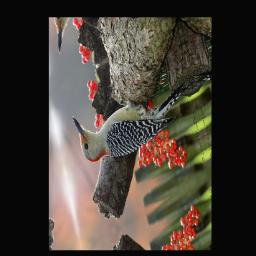Woodpecker: (69, 44, 198, 182)
